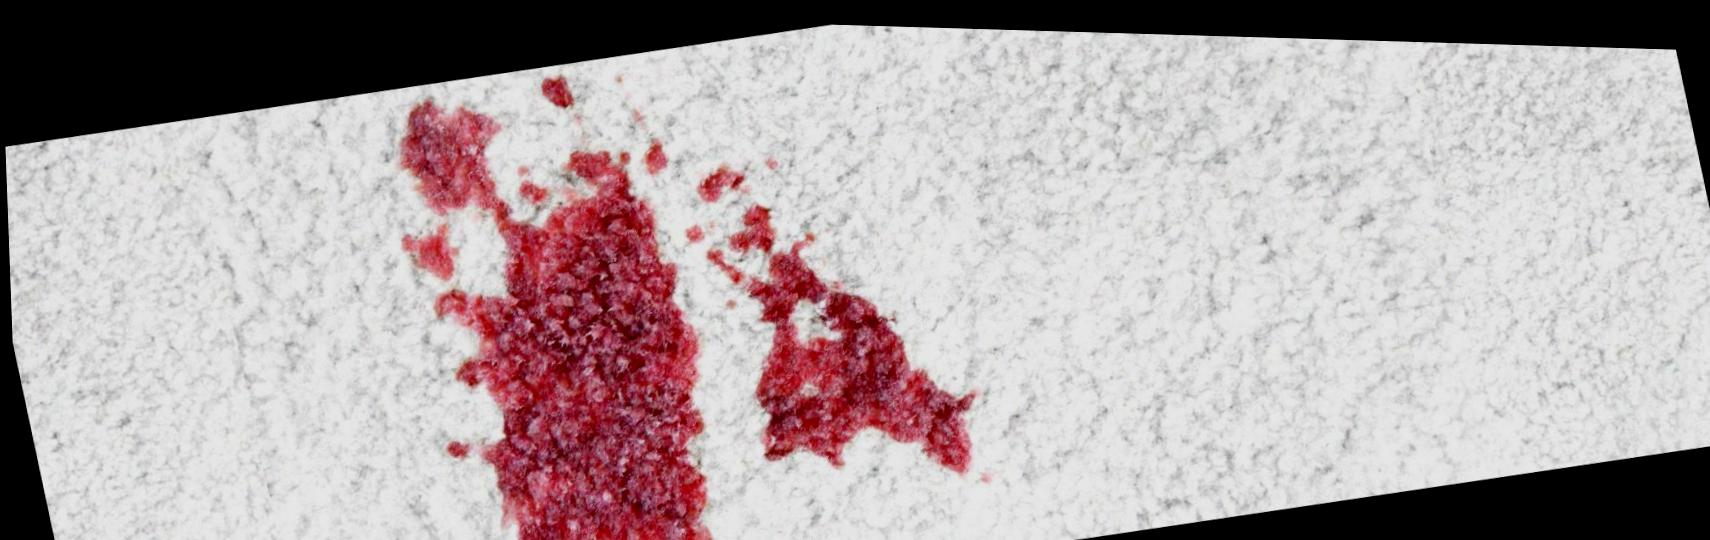Fire: (397, 94, 711, 540), (705, 197, 976, 470), (398, 220, 457, 278), (694, 159, 745, 199), (641, 132, 667, 172), (518, 175, 547, 202), (441, 437, 468, 458)
